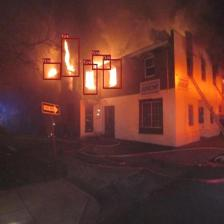fire: (61, 38, 79, 76), (102, 59, 122, 88), (83, 64, 97, 94), (43, 62, 61, 79), (92, 54, 110, 70)
